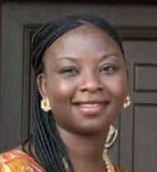without_facemask: (59, 84, 122, 127)
